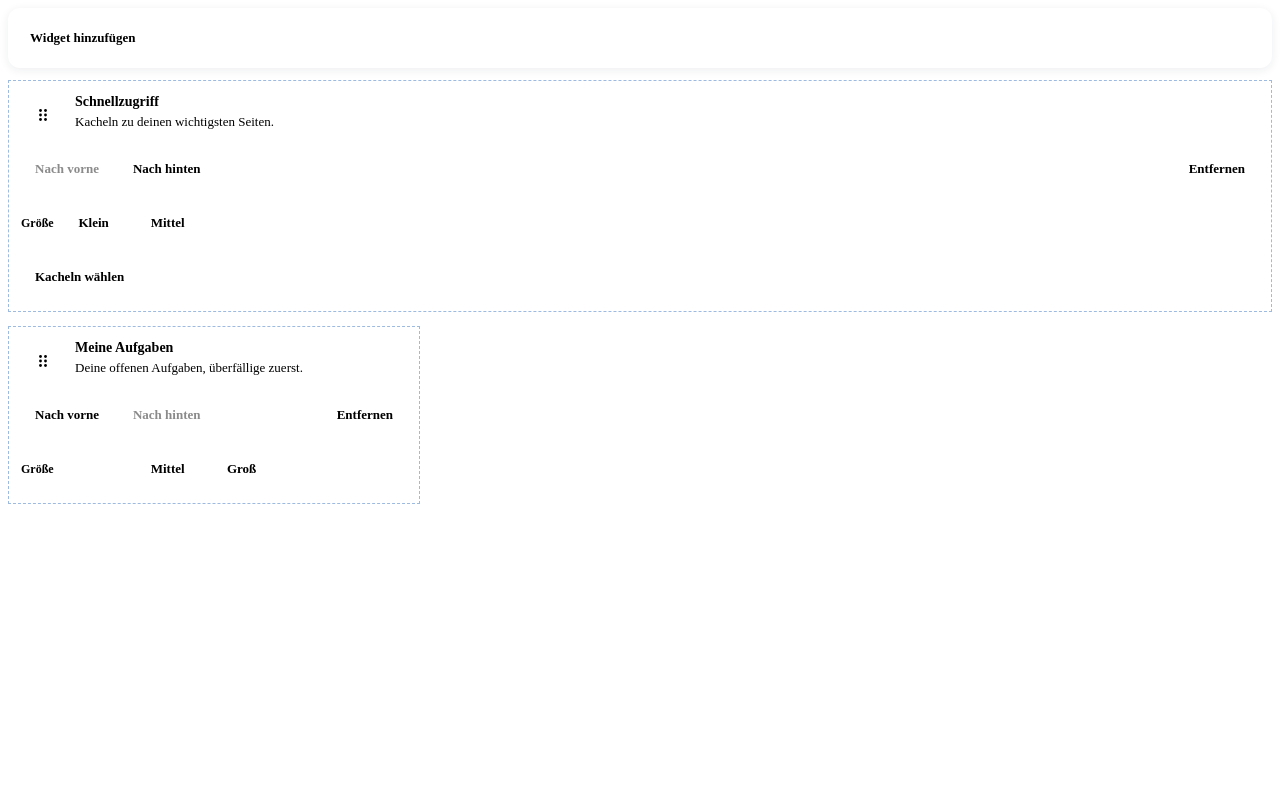
Scenario: DashboardEditor — „Kacheln wählen“ › keeps a failed download of the tile chooser inside the tile, with a retry
The image size is (1280, 800).
Step 1. Click the button "Kacheln wählen" → (80, 277), box [21,255,138,299]
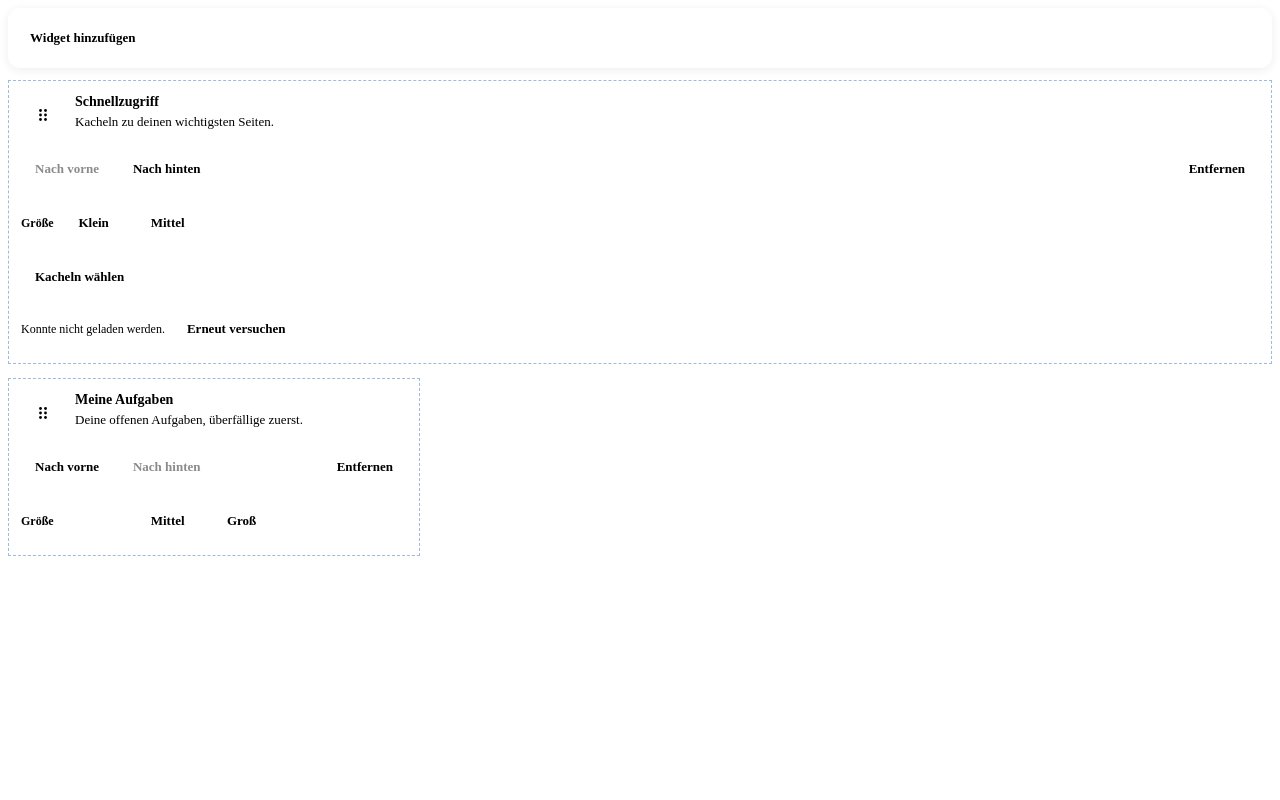
Check: the element "Meine Aufgaben" is shown, box [8,378,420,556]
Check: the text "Konnte nicht geladen werden." is shown, box [21,321,165,337]
Step 2. Click the button "Erneut versuchen" → (236, 329), box [173,307,300,351]
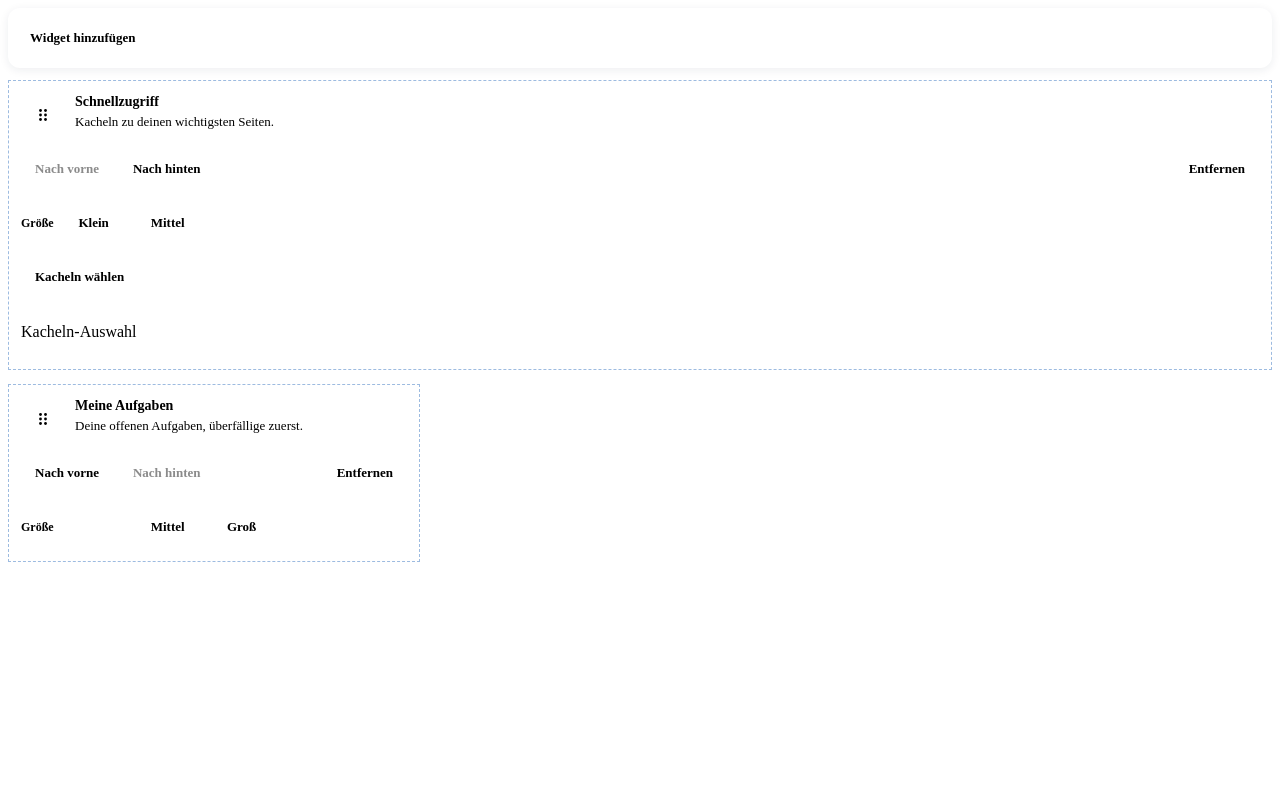
Check: the text "Kacheln-Auswahl" is shown, box [21,323,136,340]
